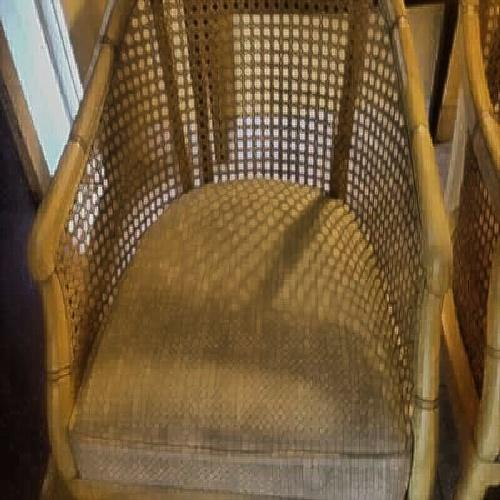chair: (61, 24, 449, 478)
